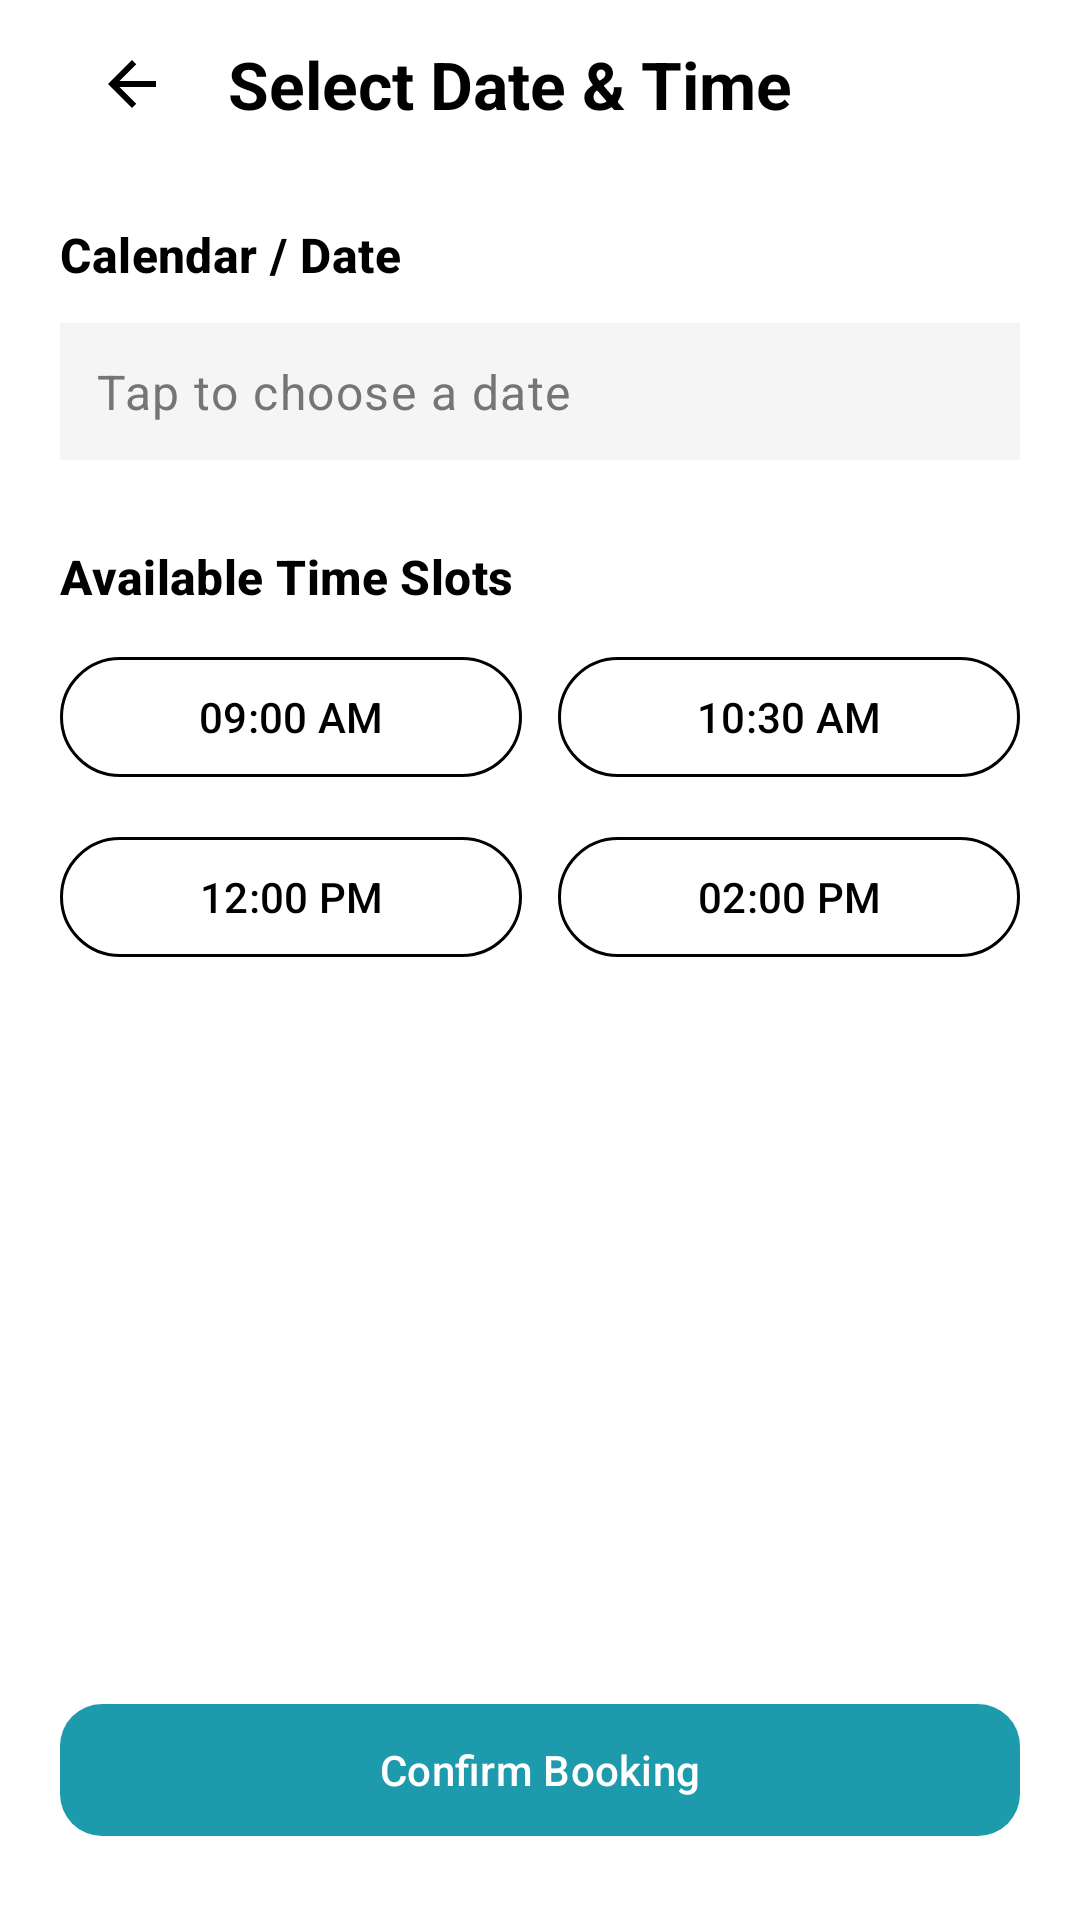

Where to tap for icons on this 1080px x 1920px app screen, as [x,y]:
Back: [132,84]
